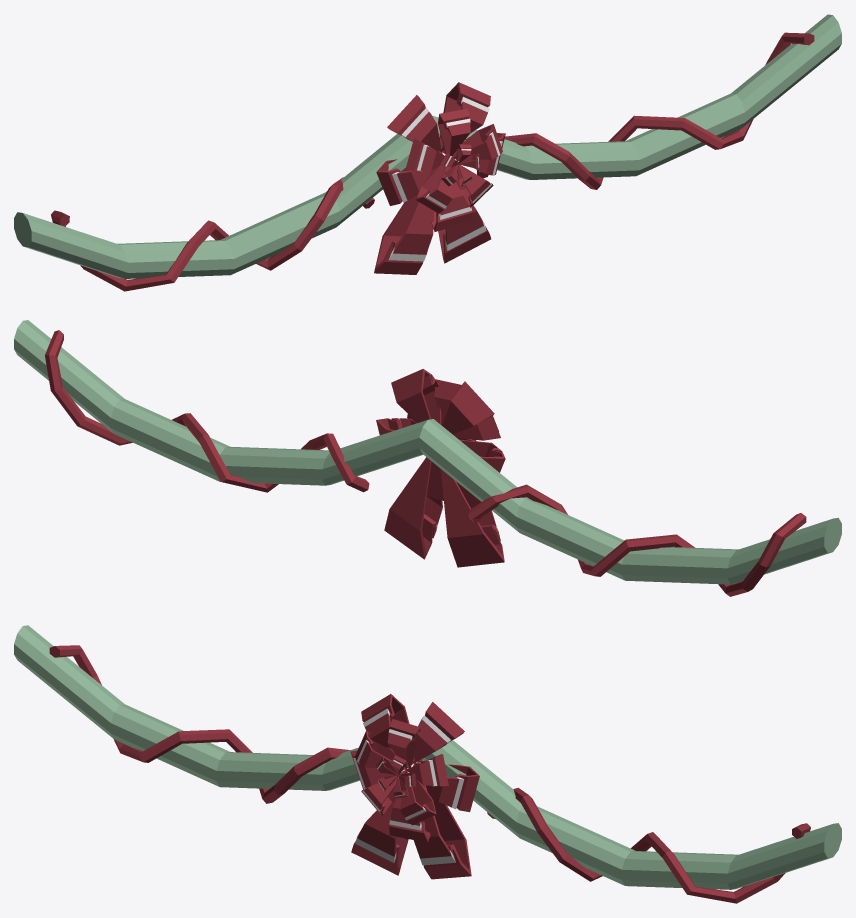
Rendered from Guirnalda Nav.fbx.
3 renders of one model, top to bottom at view 1: azimuth 30°, elevation 25°; view 2: azimuth 150°, elevation 25°; view 3: azimuth 330°, elevation 25°, orthographic.
Parts seen in each view (by area): view 1: Base_Nav, Moño_Nav_1, Moño_Nav_2, Cuerdas_2_Nav, Cuerdas_1_Nav, Liston_part_1, Liston_part_2, Moño_Nav_3; view 2: Base_Nav, Moño_Nav_1, Cuerdas_2_Nav, Cuerdas_1_Nav, Liston_part_1, Liston_part_2, Moño_Nav_2; view 3: Base_Nav, Moño_Nav_1, Moño_Nav_2, Cuerdas_1_Nav, Cuerdas_2_Nav, Liston_part_2, Liston_part_1, Moño_Nav_3.
Boxes of the visible parts, <box> form: Base_Nav: <box>14,14,841,278</box>; Moño_Nav_1: <box>376,82,505,231</box>; Moño_Nav_2: <box>405,108,502,213</box>; Cuerdas_2_Nav: <box>477,32,814,189</box>; Cuerdas_1_Nav: <box>51,177,374,291</box>; Liston_part_1: <box>374,168,435,274</box>; Liston_part_2: <box>438,205,491,263</box>; Moño_Nav_3: <box>440,144,479,186</box>; Base_Nav: <box>14,320,841,584</box>; Moño_Nav_1: <box>376,369,505,500</box>; Cuerdas_2_Nav: <box>45,330,369,492</box>; Cuerdas_1_Nav: <box>468,484,806,596</box>; Liston_part_1: <box>440,469,504,567</box>; Liston_part_2: <box>384,457,442,559</box>; Moño_Nav_2: <box>407,379,500,441</box>; Base_Nav: <box>14,625,841,889</box>; Moño_Nav_1: <box>350,694,479,842</box>; Moño_Nav_2: <box>355,719,448,825</box>; Cuerdas_1_Nav: <box>49,645,350,803</box>; Cuerdas_2_Nav: <box>487,787,810,903</box>; Liston_part_2: <box>413,785,471,879</box>; Liston_part_1: <box>351,797,408,875</box>; Moño_Nav_3: <box>376,755,415,798</box>.
Size of the model in its own units: 3.98 by 0.8756 by 0.4545.
